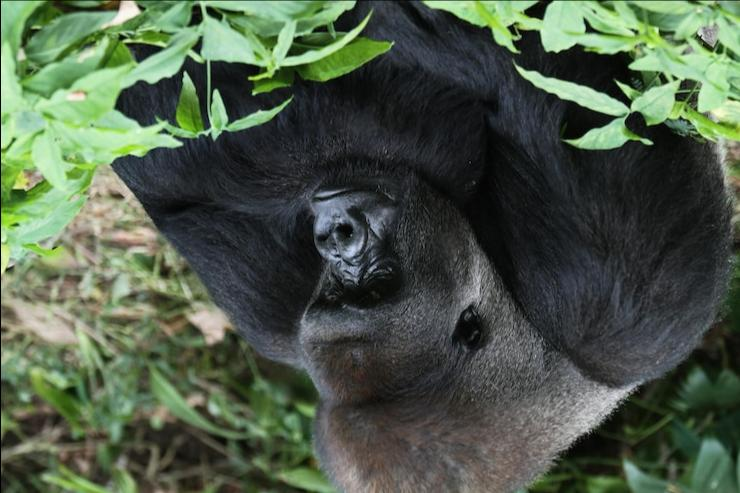goriile_montagne: (89, 13, 732, 488)
